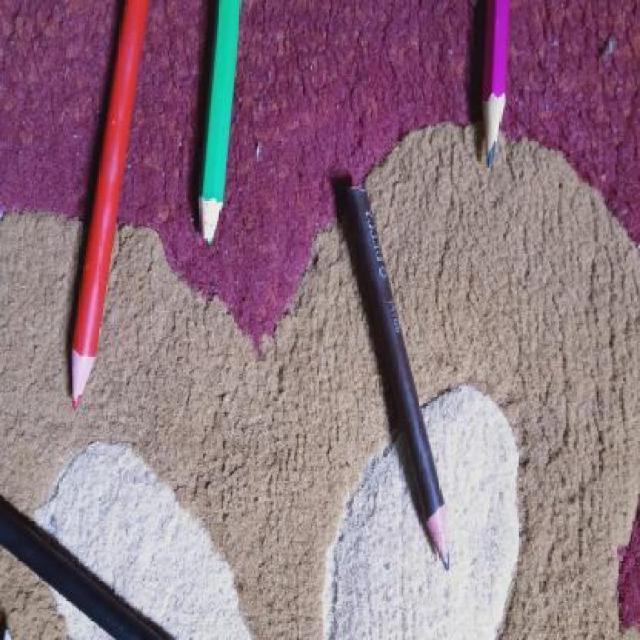pencil: (422, 499, 460, 583), (473, 82, 509, 168), (60, 339, 98, 413), (182, 192, 225, 254)
